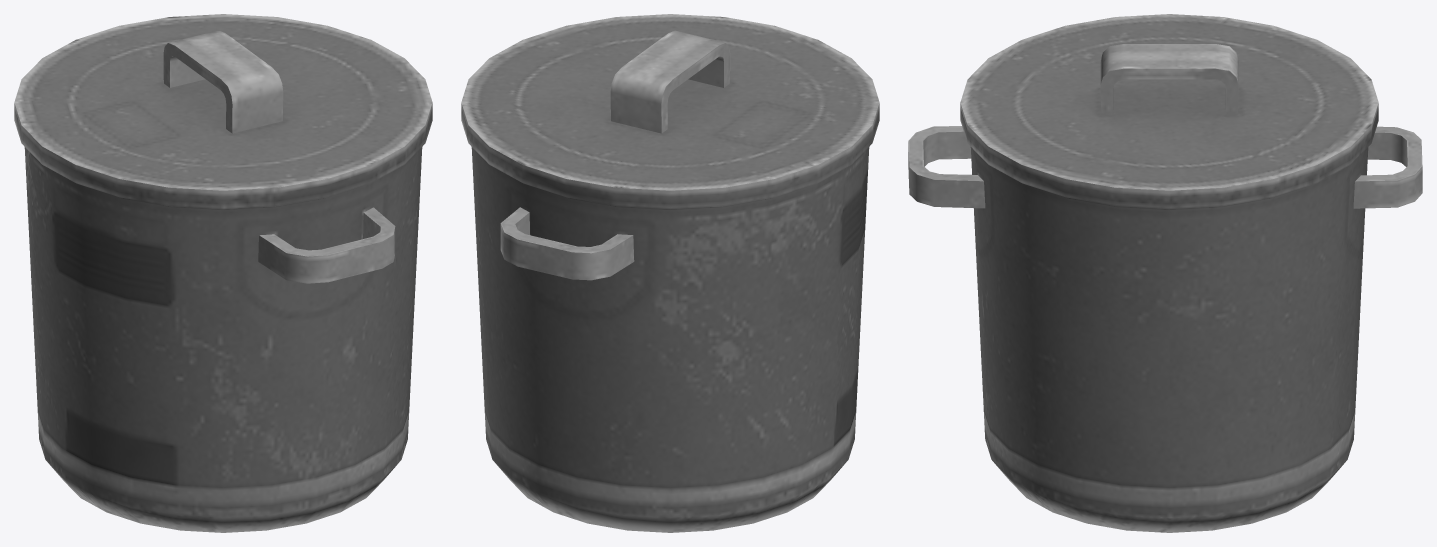
Rendered from CP_Pot.fbx.
3 views of the same model, side by side, from view 1: azimuth 30°, elevation 25°; view 2: azimuth 150°, elevation 25°; view 3: azimuth 270°, elevation 25° (orthographic).
Parts seen in each view (by area): view 1: CP_Pot_LOD0; view 2: CP_Pot_LOD0; view 3: CP_Pot_LOD0.
Boxes of the visible parts, x1,y1,x2,y2 form: CP_Pot_LOD0: (14, 14, 432, 532); CP_Pot_LOD0: (461, 14, 879, 532); CP_Pot_LOD0: (908, 14, 1422, 532).
Size of what is drawn, in the model's own units: 35.15 by 37.72 by 43.2.
